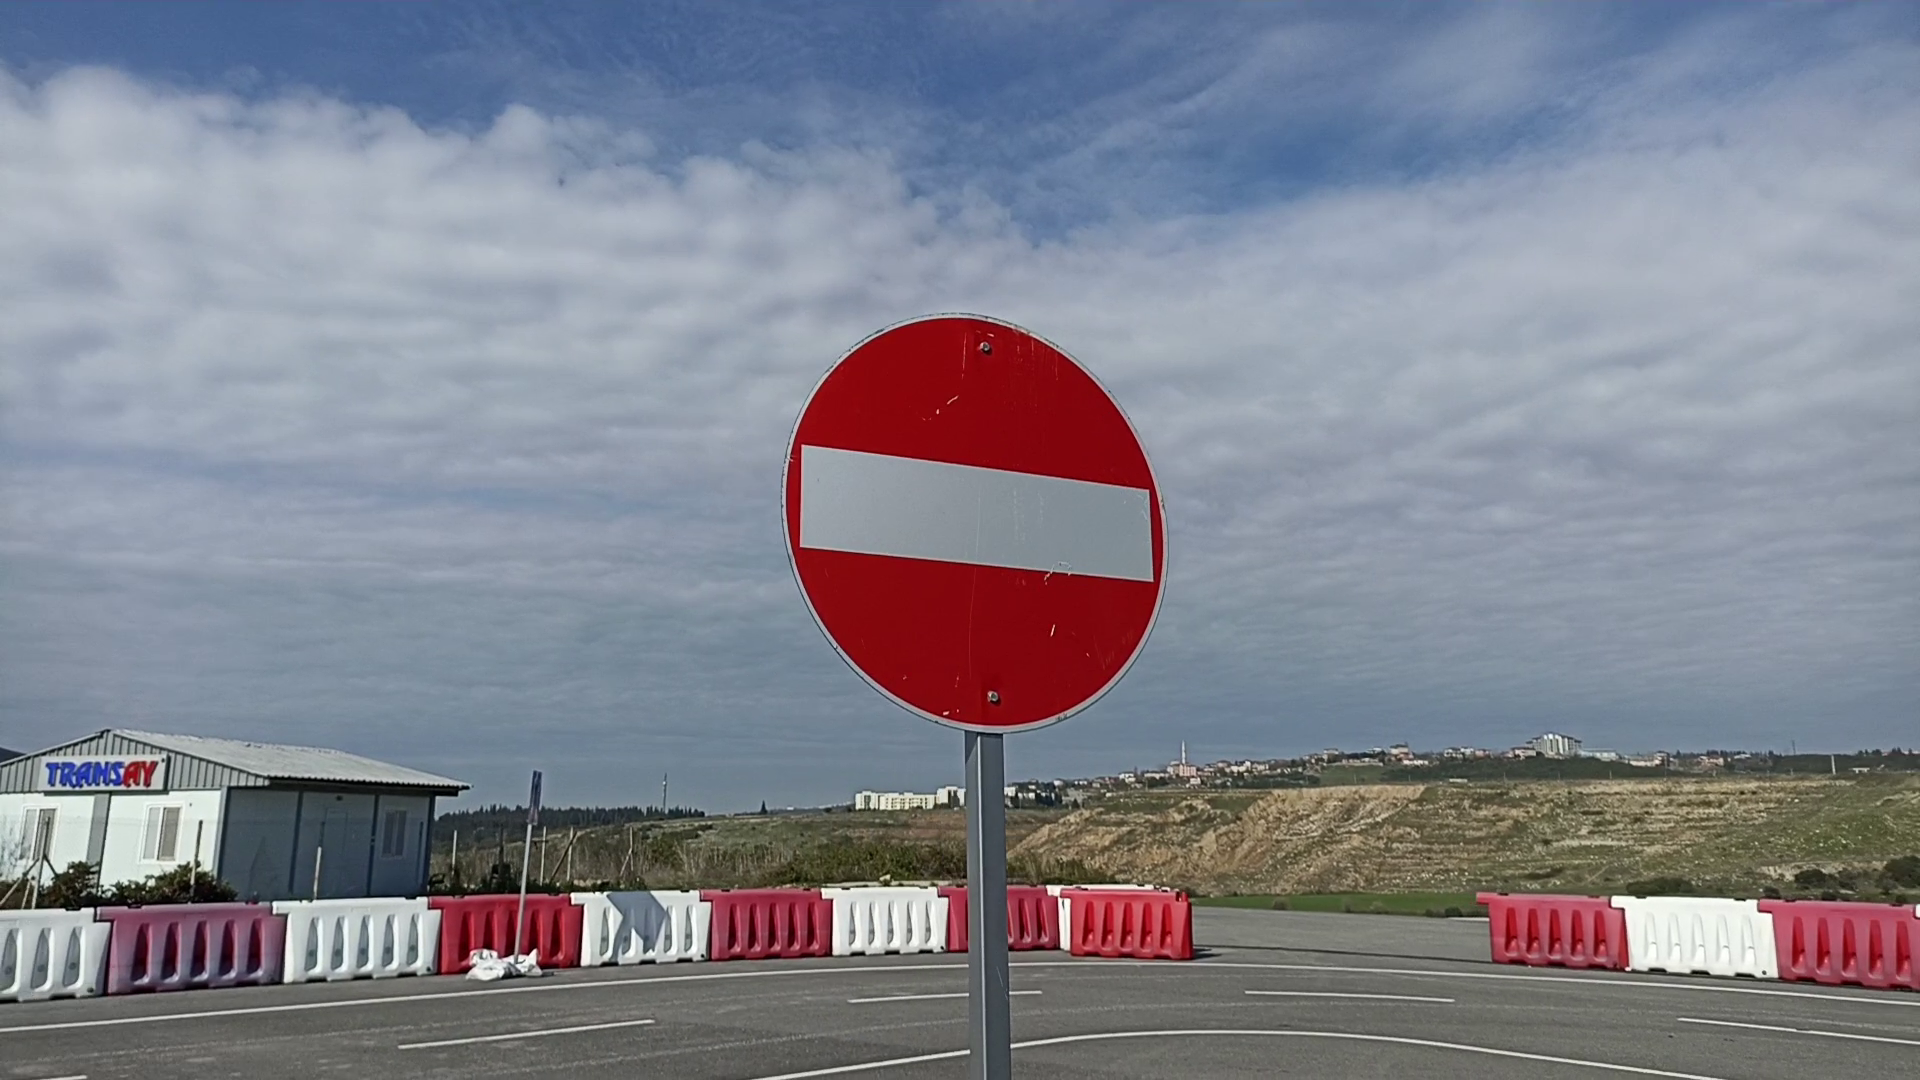noentryway: (775, 303, 1180, 741)
